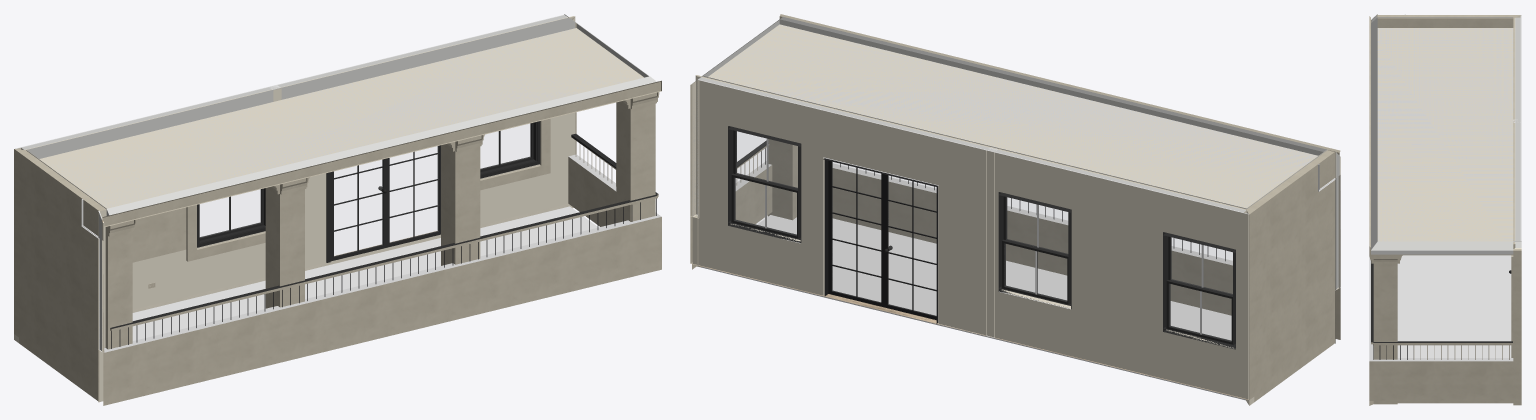
File: front-balcony-773192a5cd9e.glb
3 renders of one model, left to right at view 1: azimuth 30°, elevation 25°; view 2: azimuth 150°, elevation 25°; view 3: azimuth 270°, elevation 25°, orthographic. The views are drawn at different scales.
Visible parts, largest first — view 1: front-balcony-0ac23dde8d2f7c54, front-balcony-b39baa29700ae605, front-balcony-f6a7cfeba332478b, front-balcony-62353aa10fc57f23, front-balcony-b0ade14315e4f1c3, front-balcony-0987656e6ddb83c1, front-balcony-dbd60ee5c3733ed6, front-balcony-24022e0f0167e9d7, front-balcony-f0f007964d256d2c, front-balcony-771be2dfa886178e, front-balcony-41597b955207c1bc, front-balcony-489e9ad801b4b62e (+7 smaller); view 2: front-balcony-b0ade14315e4f1c3, front-balcony-0ac23dde8d2f7c54, front-balcony-f6a7cfeba332478b, front-balcony-62353aa10fc57f23, front-balcony-0987656e6ddb83c1, front-balcony-b39baa29700ae605, front-balcony-dbd60ee5c3733ed6, front-balcony-e1735639a83d20d7, front-balcony-60f0db96f832035a, front-balcony-b5cb73c07919def8, front-balcony-41597b955207c1bc, front-balcony-dc9de07e6ba3b47a (+3 smaller); view 3: front-balcony-0ac23dde8d2f7c54, front-balcony-f6a7cfeba332478b, front-balcony-dbd60ee5c3733ed6, front-balcony-dc9de07e6ba3b47a, front-balcony-41597b955207c1bc, front-balcony-b0ade14315e4f1c3, front-balcony-62353aa10fc57f23, front-balcony-adb6f49a6d2cbec3, front-balcony-8ce6cdf114d83750, front-balcony-24022e0f0167e9d7, front-balcony-16d9002bc6318568, front-balcony-19165bb3a07bed8e (+3 smaller).
Boxes of the visible parts, x1,y1,x2,y2 form: front-balcony-0ac23dde8d2f7c54: [26, 18, 656, 215]; front-balcony-b39baa29700ae605: [98, 216, 661, 405]; front-balcony-f6a7cfeba332478b: [45, 29, 641, 207]; front-balcony-62353aa10fc57f23: [14, 149, 106, 401]; front-balcony-b0ade14315e4f1c3: [15, 15, 575, 309]; front-balcony-0987656e6ddb83c1: [326, 145, 440, 262]; front-balcony-dbd60ee5c3733ed6: [132, 206, 597, 340]; front-balcony-24022e0f0167e9d7: [102, 80, 661, 227]; front-balcony-f0f007964d256d2c: [265, 187, 304, 308]; front-balcony-771be2dfa886178e: [441, 144, 480, 265]; front-balcony-41597b955207c1bc: [616, 102, 655, 222]; front-balcony-489e9ad801b4b62e: [105, 226, 132, 349]; front-balcony-b0ade14315e4f1c3: [692, 75, 1248, 399]; front-balcony-0ac23dde8d2f7c54: [702, 17, 1327, 209]; front-balcony-f6a7cfeba332478b: [710, 24, 1317, 207]; front-balcony-62353aa10fc57f23: [1246, 150, 1334, 405]; front-balcony-0987656e6ddb83c1: [823, 158, 938, 323]; front-balcony-b39baa29700ae605: [832, 163, 1340, 343]; front-balcony-dbd60ee5c3733ed6: [702, 215, 1245, 400]; front-balcony-e1735639a83d20d7: [728, 126, 801, 242]; front-balcony-60f0db96f832035a: [1163, 232, 1235, 349]; front-balcony-b5cb73c07919def8: [998, 192, 1071, 308]; front-balcony-41597b955207c1bc: [767, 139, 797, 220]; front-balcony-dc9de07e6ba3b47a: [735, 161, 772, 224]; front-balcony-0ac23dde8d2f7c54: [1371, 17, 1513, 254]; front-balcony-f6a7cfeba332478b: [1371, 28, 1513, 255]; front-balcony-dbd60ee5c3733ed6: [1397, 255, 1513, 403]; front-balcony-dc9de07e6ba3b47a: [1369, 358, 1513, 400]; front-balcony-41597b955207c1bc: [1373, 264, 1397, 404]; front-balcony-b0ade14315e4f1c3: [1513, 15, 1521, 400]; front-balcony-62353aa10fc57f23: [1377, 15, 1521, 27]; front-balcony-adb6f49a6d2cbec3: [1513, 249, 1521, 361]; front-balcony-8ce6cdf114d83750: [1373, 341, 1512, 345]; front-balcony-24022e0f0167e9d7: [1369, 16, 1370, 255]; front-balcony-16d9002bc6318568: [1514, 361, 1521, 400]; front-balcony-19165bb3a07bed8e: [1511, 255, 1513, 357].
Size of the model in its own units: 9.14 by 3 by 2.55.
20 materials, 4 textured.
